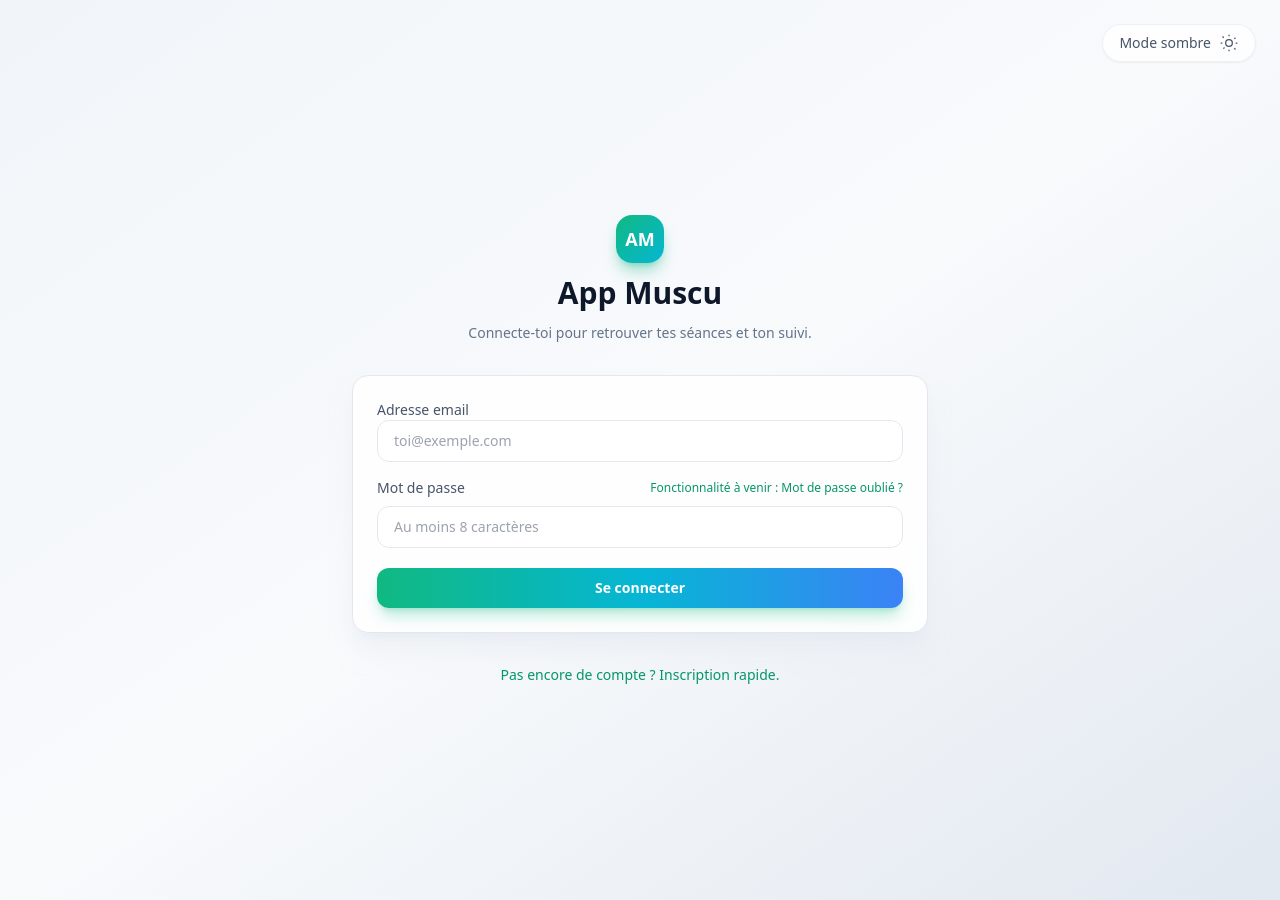
Scenario: LoginView › switches to register mode
Click the button "Pas encore de compte ? Inscription rapide.".
click(640, 674)  # box 500,664 -> 779,684
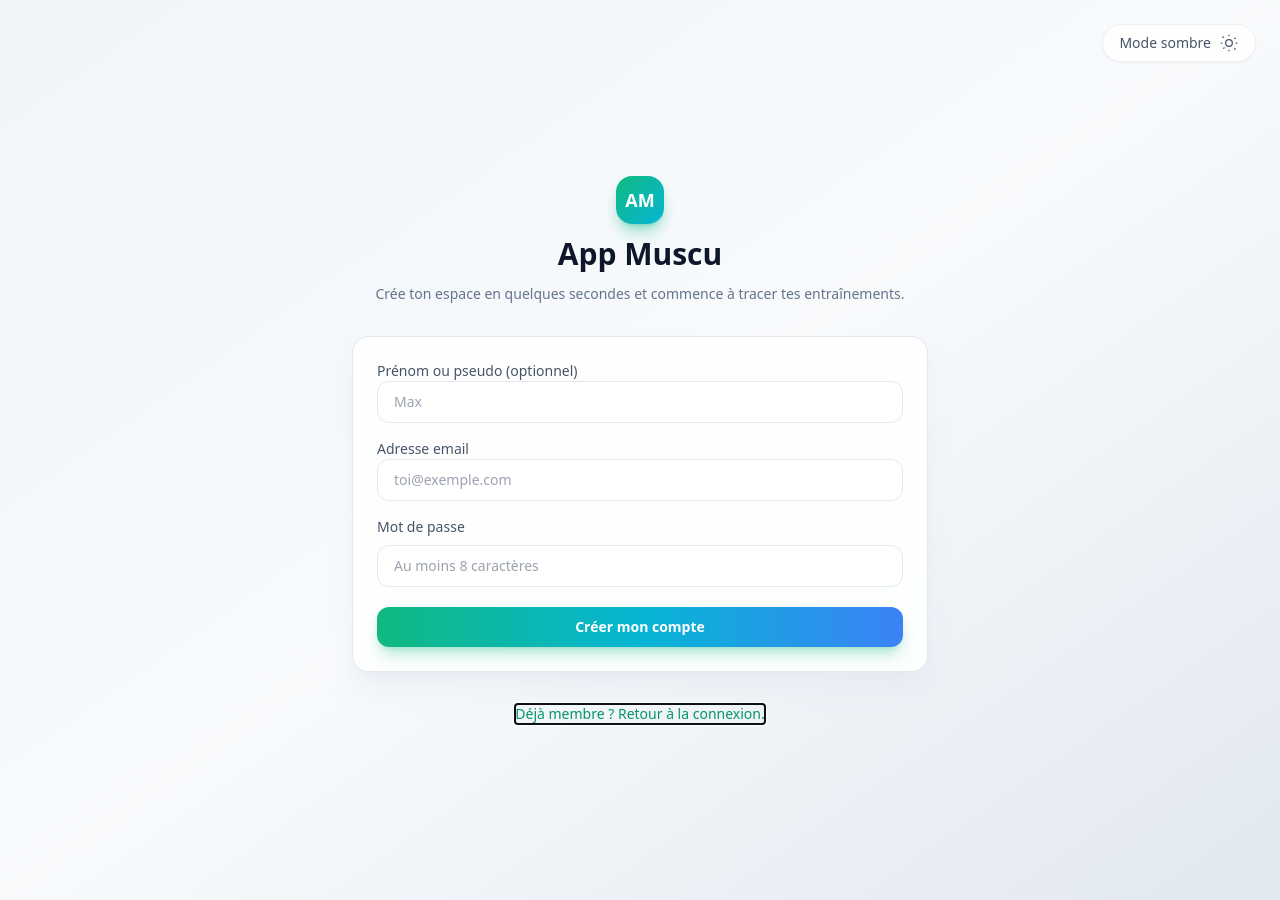
Check: the button "Créer mon compte" is shown, box 377,606 -> 903,646
Check: the text "Prénom ou pseudo (optionnel)" is shown, box 377,360 -> 903,422
